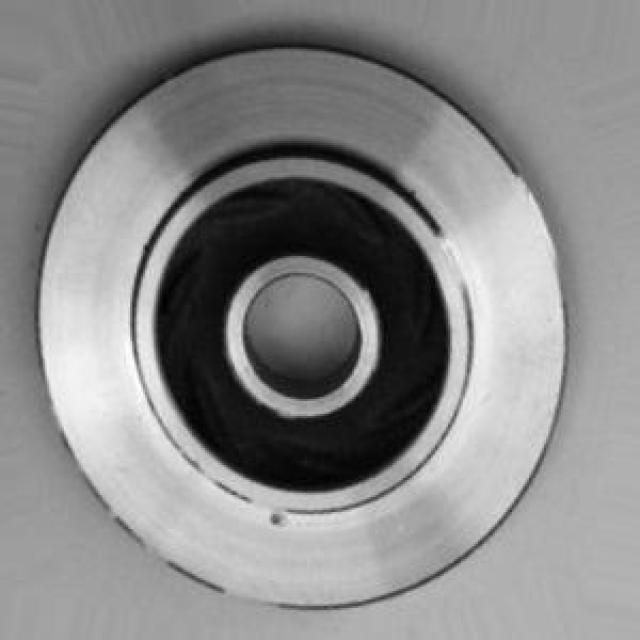Defect: (255, 498, 288, 540)
